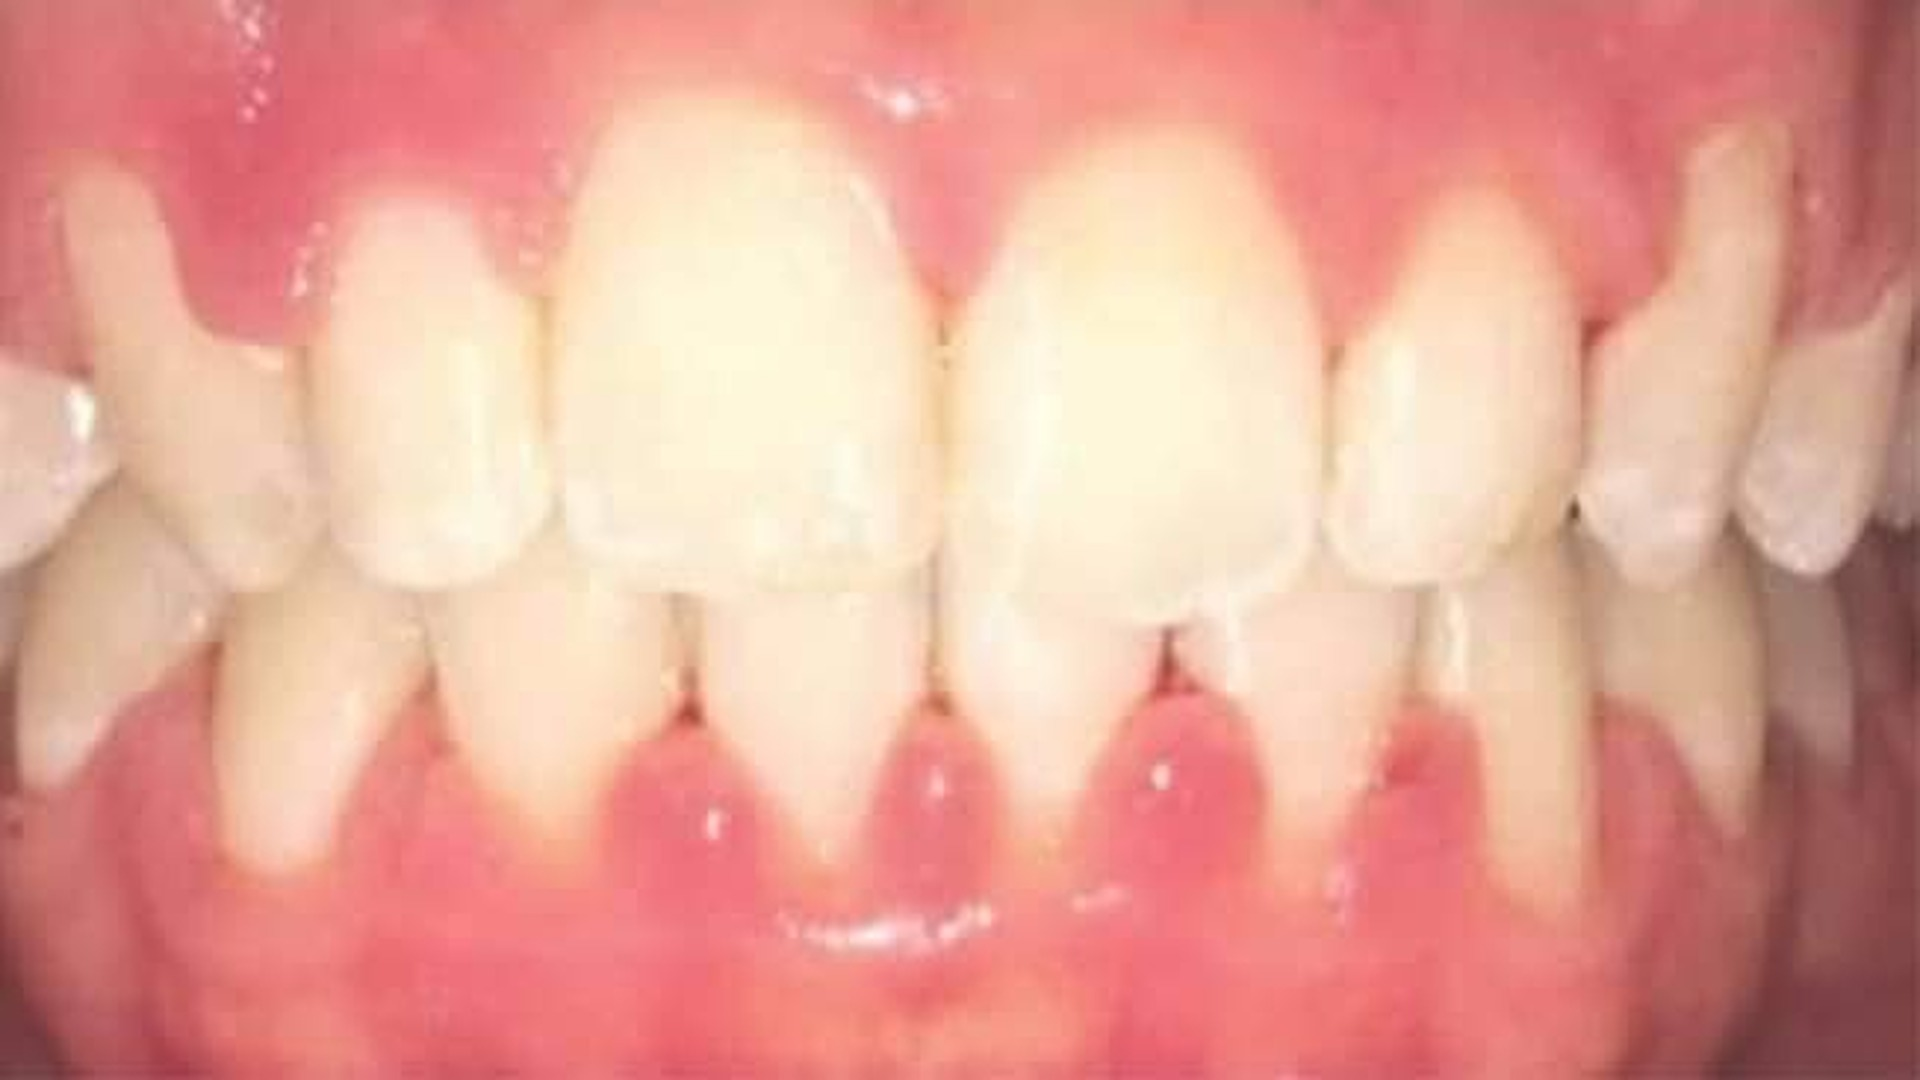tooth: (546, 94, 942, 601), (947, 123, 1328, 625), (61, 156, 328, 592), (1323, 183, 1582, 589), (1576, 117, 1793, 592), (307, 204, 553, 591), (1174, 589, 1416, 913), (214, 551, 433, 881), (1412, 543, 1601, 919), (11, 476, 225, 790)
